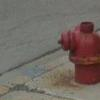Hydrant: (48, 14, 100, 94)
